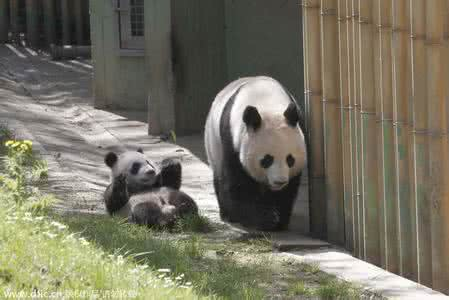panda: (211, 68, 307, 238), (103, 145, 207, 234)
